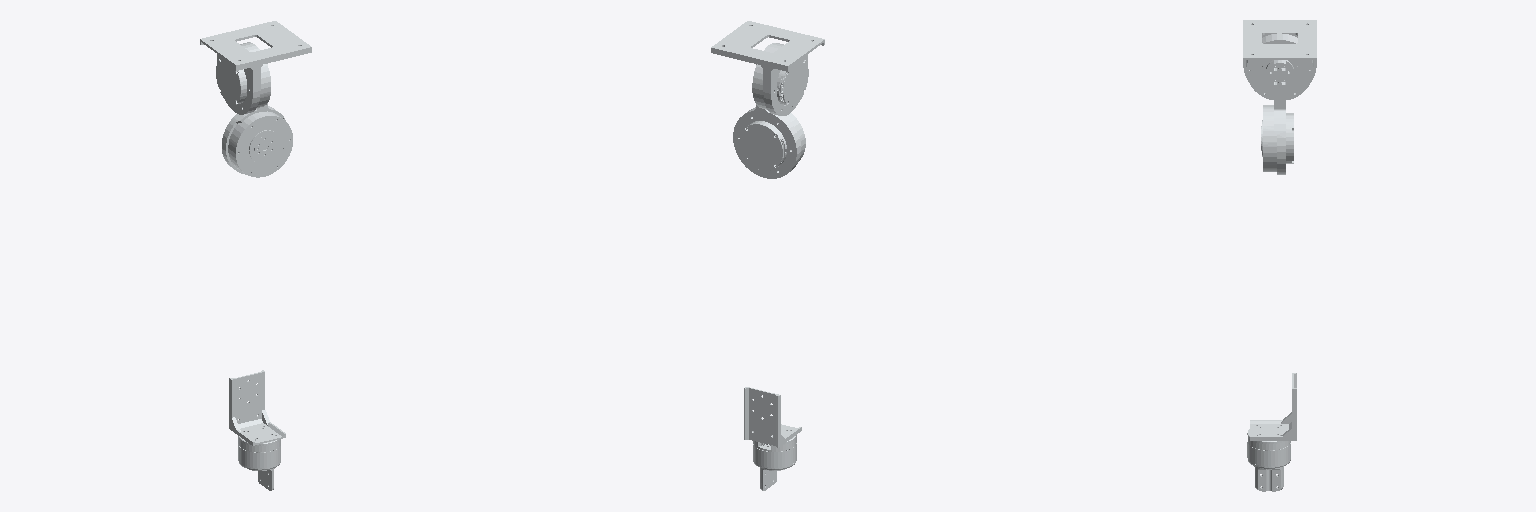
The robot description file, URDF, robot "arm_urdf_export_v2":
<?xml version='1.0' encoding='utf-8'?>
<robot name="arm_urdf_export_v2">
  <link name="arm_base">
    <inertial>
      <origin xyz="-0.01325498 -0.00006532 -0.03365672" rpy="0 0 0" />
      <mass value="0.43802" />
      <inertia ixx="4.23084090e-04" ixy="-5.75020000e-07" ixz="-3.15788100e-05" iyy="3.21170290e-04" iyz="-1.55420000e-07" izz="3.02796930e-04" />
    </inertial>
    <visual>
      <origin xyz="0 0 0" rpy="0 0 0" />
      <geometry>
        <mesh filename="package://arm_urdf_export_v2/meshes/arm_base.STL" />
      </geometry>
      <material name="">
        <color rgba="0.89804 0.91765 0.92941 1" />
      </material>
    </visual>
    <collision>
      <origin xyz="0 0 0" rpy="0 0 0" />
      <geometry>
        <mesh filename="package://arm_urdf_export_v2/meshes/arm_base.STL" />
      </geometry>
    </collision>
  </link>
  <link name="arm_link_1">
    <inertial>
      <origin xyz="0.00519521 0.07839943 0.00046526" rpy="0 0 0" />
      <mass value="0.39544" />
      <inertia ixx="4.17146760e-04" ixy="-1.04726600e-05" ixz="1.25341000e-06" iyy="1.69496170e-04" iyz="9.17993000e-06" izz="3.02769160e-04" />
    </inertial>
    <visual>
      <origin xyz="0 0 0" rpy="0 0 0" />
      <geometry>
        <mesh filename="package://arm_urdf_export_v2/meshes/arm_link_1.STL" />
      </geometry>
      <material name="">
        <color rgba="0.89804 0.91765 0.92941 1" />
      </material>
    </visual>
    <collision>
      <origin xyz="0 0 0" rpy="0 0 0" />
      <geometry>
        <mesh filename="package://arm_urdf_export_v2/meshes/arm_link_1.STL" />
      </geometry>
    </collision>
  </link>
  <joint name="arm_joint_1" type="revolute">
    <origin xyz="0 0 -0.0395" rpy="-1.5708 0 -1.5708" />
    <parent link="arm_base" />
    <child link="arm_link_1" />
    <axis xyz="0 0 1" />
    <limit lower="0" upper="0" effort="0" velocity="0" />
  </joint>
  <link name="arm_link_2">
    <inertial>
      <origin xyz="-0.00639203 -0.14834016 -0.01599046" rpy="0 0 0" />
      <mass value="0.38395" />
      <inertia ixx="5.75687460e-04" ixy="-2.03196300e-05" ixz="-5.19197000e-06" iyy="1.50298710e-04" iyz="-7.15971500e-05" izz="5.57801600e-04" />
    </inertial>
    <visual>
      <origin xyz="0 0 0" rpy="0 0 0" />
      <geometry>
        <mesh filename="package://arm_urdf_export_v2/meshes/arm_link_2.STL" />
      </geometry>
      <material name="">
        <color rgba="1 1 1 1" />
      </material>
    </visual>
    <collision>
      <origin xyz="0 0 0" rpy="0 0 0" />
      <geometry>
        <mesh filename="package://arm_urdf_export_v2/meshes/arm_link_2.STL" />
      </geometry>
    </collision>
  </link>
  <joint name="arm_joint_2" type="revolute">
    <origin xyz="0.021 0.0835 0" rpy="3.1416 -1.5708 0" />
    <parent link="arm_link_1" />
    <child link="arm_link_2" />
    <axis xyz="0 0 -1" />
    <limit lower="0" upper="0" effort="0" velocity="0" />
  </joint>
  <link name="arm_link_3">
    <inertial>
      <origin xyz="0.14696417 -0.00631969 -0.01578926" rpy="0 0 0" />
      <mass value="0.38835" />
      <inertia ixx="1.52894180e-04" ixy="2.24099300e-05" ixz="8.01362900e-05" iyy="6.37294400e-04" iyz="-5.70657000e-06" izz="6.19170070e-04" />
    </inertial>
    <visual>
      <origin xyz="0 0 0" rpy="0 0 0" />
      <geometry>
        <mesh filename="package://arm_urdf_export_v2/meshes/arm_link_3.STL" />
      </geometry>
      <material name="">
        <color rgba="1 1 1 1" />
      </material>
    </visual>
    <collision>
      <origin xyz="0 0 0" rpy="0 0 0" />
      <geometry>
        <mesh filename="package://arm_urdf_export_v2/meshes/arm_link_3.STL" />
      </geometry>
    </collision>
  </link>
  <joint name="arm_joint_3" type="revolute">
    <origin xyz="0.0165 -0.161 -0.0184" rpy="-1.5708 0 -1.5708" />
    <parent link="arm_link_2" />
    <child link="arm_link_3" />
    <axis xyz="0 0 -1" />
    <limit lower="0" upper="0" effort="0" velocity="0" />
  </joint>
  <link name="arm_link_4">
    <inertial>
      <origin xyz="-0.00007223 0.0548251 -0.02308677" rpy="0 0 0" />
      <mass value="0.20956" />
      <inertia ixx="1.24028300e-04" ixy="-6.75200000e-08" ixz="-2.85870000e-07" iyy="8.80981000e-05" iyz="2.33936700e-05" izz="1.16945730e-04" />
    </inertial>
    <visual>
      <origin xyz="0 0 0" rpy="0 0 0" />
      <geometry>
        <mesh filename="package://arm_urdf_export_v2/meshes/arm_link_4.STL" />
      </geometry>
      <material name="">
        <color rgba="0.89804 0.91765 0.92941 1" />
      </material>
    </visual>
    <collision>
      <origin xyz="0 0 0" rpy="0 0 0" />
      <geometry>
        <mesh filename="package://arm_urdf_export_v2/meshes/arm_link_4.STL" />
      </geometry>
    </collision>
  </link>
  <joint name="arm_joint_4" type="revolute">
    <origin xyz="0.161 0.0165 -0.0184" rpy="-1.5708 -1.5708 0" />
    <parent link="arm_link_3" />
    <child link="arm_link_4" />
    <axis xyz="0 0 -1" />
    <limit lower="0" upper="0" effort="0" velocity="0" />
  </joint>
  <link name="arm_link_5">
    <inertial>
      <origin xyz="0.00491693 0.00000001 0.01105373" rpy="0 0 0" />
      <mass value="0.01978" />
      <inertia ixx="3.81064000e-06" ixy="0" ixz="-6.87390000e-07" iyy="3.30888000e-06" iyz="0" izz="2.81290000e-06" />
    </inertial>
    <visual>
      <origin xyz="0 0 0" rpy="0 0 0" />
      <geometry>
        <mesh filename="package://arm_urdf_export_v2/meshes/arm_link_5.STL" />
      </geometry>
      <material name="">
        <color rgba="0.89804 0.91765 0.92941 1" />
      </material>
    </visual>
    <collision>
      <origin xyz="0 0 0" rpy="0 0 0" />
      <geometry>
        <mesh filename="package://arm_urdf_export_v2/meshes/arm_link_5.STL" />
      </geometry>
    </collision>
  </link>
  <joint name="arm_joint_5" type="revolute">
    <origin xyz="0 0.0779 -0.026" rpy="-1.5708 0 0" />
    <parent link="arm_link_4" />
    <child link="arm_link_5" />
    <axis xyz="0 0 1" />
    <limit lower="0" upper="0" effort="0" velocity="0" />
  </joint>
</robot>

--- What the picture shows (computed from the rendered views, not written in the file) ---
The picture shows the robot from 3 angles, left to right: view 1: azimuth 30°, elevation 25°; view 2: azimuth 150°, elevation 25°; view 3: azimuth 270°, elevation 25°; orthographic projection.
Robot: arm_urdf_export_v2 — 6 links, 5 joints (5 revolute); root link arm_base; default pose: every joint at zero.
Links seen in each view (by area): view 1: arm_base, arm_link_1, arm_link_4; view 2: arm_base, arm_link_1, arm_link_4; view 3: arm_base, arm_link_1, arm_link_4, arm_link_5.
Boxes of the visible links, x1=… form: arm_base: x1=200, y1=21, x2=311, y2=114; arm_link_1: x1=222, y1=63, x2=292, y2=177; arm_link_4: x1=229, y1=370, x2=285, y2=470; arm_base: x1=711, y1=21, x2=824, y2=115; arm_link_1: x1=733, y1=64, x2=805, y2=178; arm_link_4: x1=744, y1=387, x2=801, y2=469; arm_base: x1=1243, y1=20, x2=1316, y2=99; arm_link_1: x1=1261, y1=60, x2=1293, y2=174; arm_link_4: x1=1247, y1=373, x2=1296, y2=468; arm_link_5: x1=1254, y1=466, x2=1283, y2=491.
Size in the robot's own frame: 0.1 by 0.083 by 0.5569 metres.
Meshes: 6 distinct files referenced, 4 mesh visuals loaded (4 binary STL); not drawn: 2 (reference not matched to a file when rendering).
